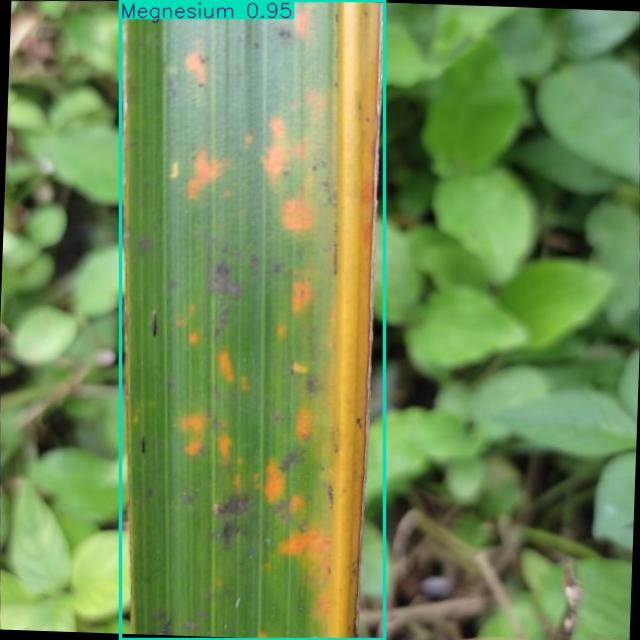Megnesium: (120, 0, 385, 640)
